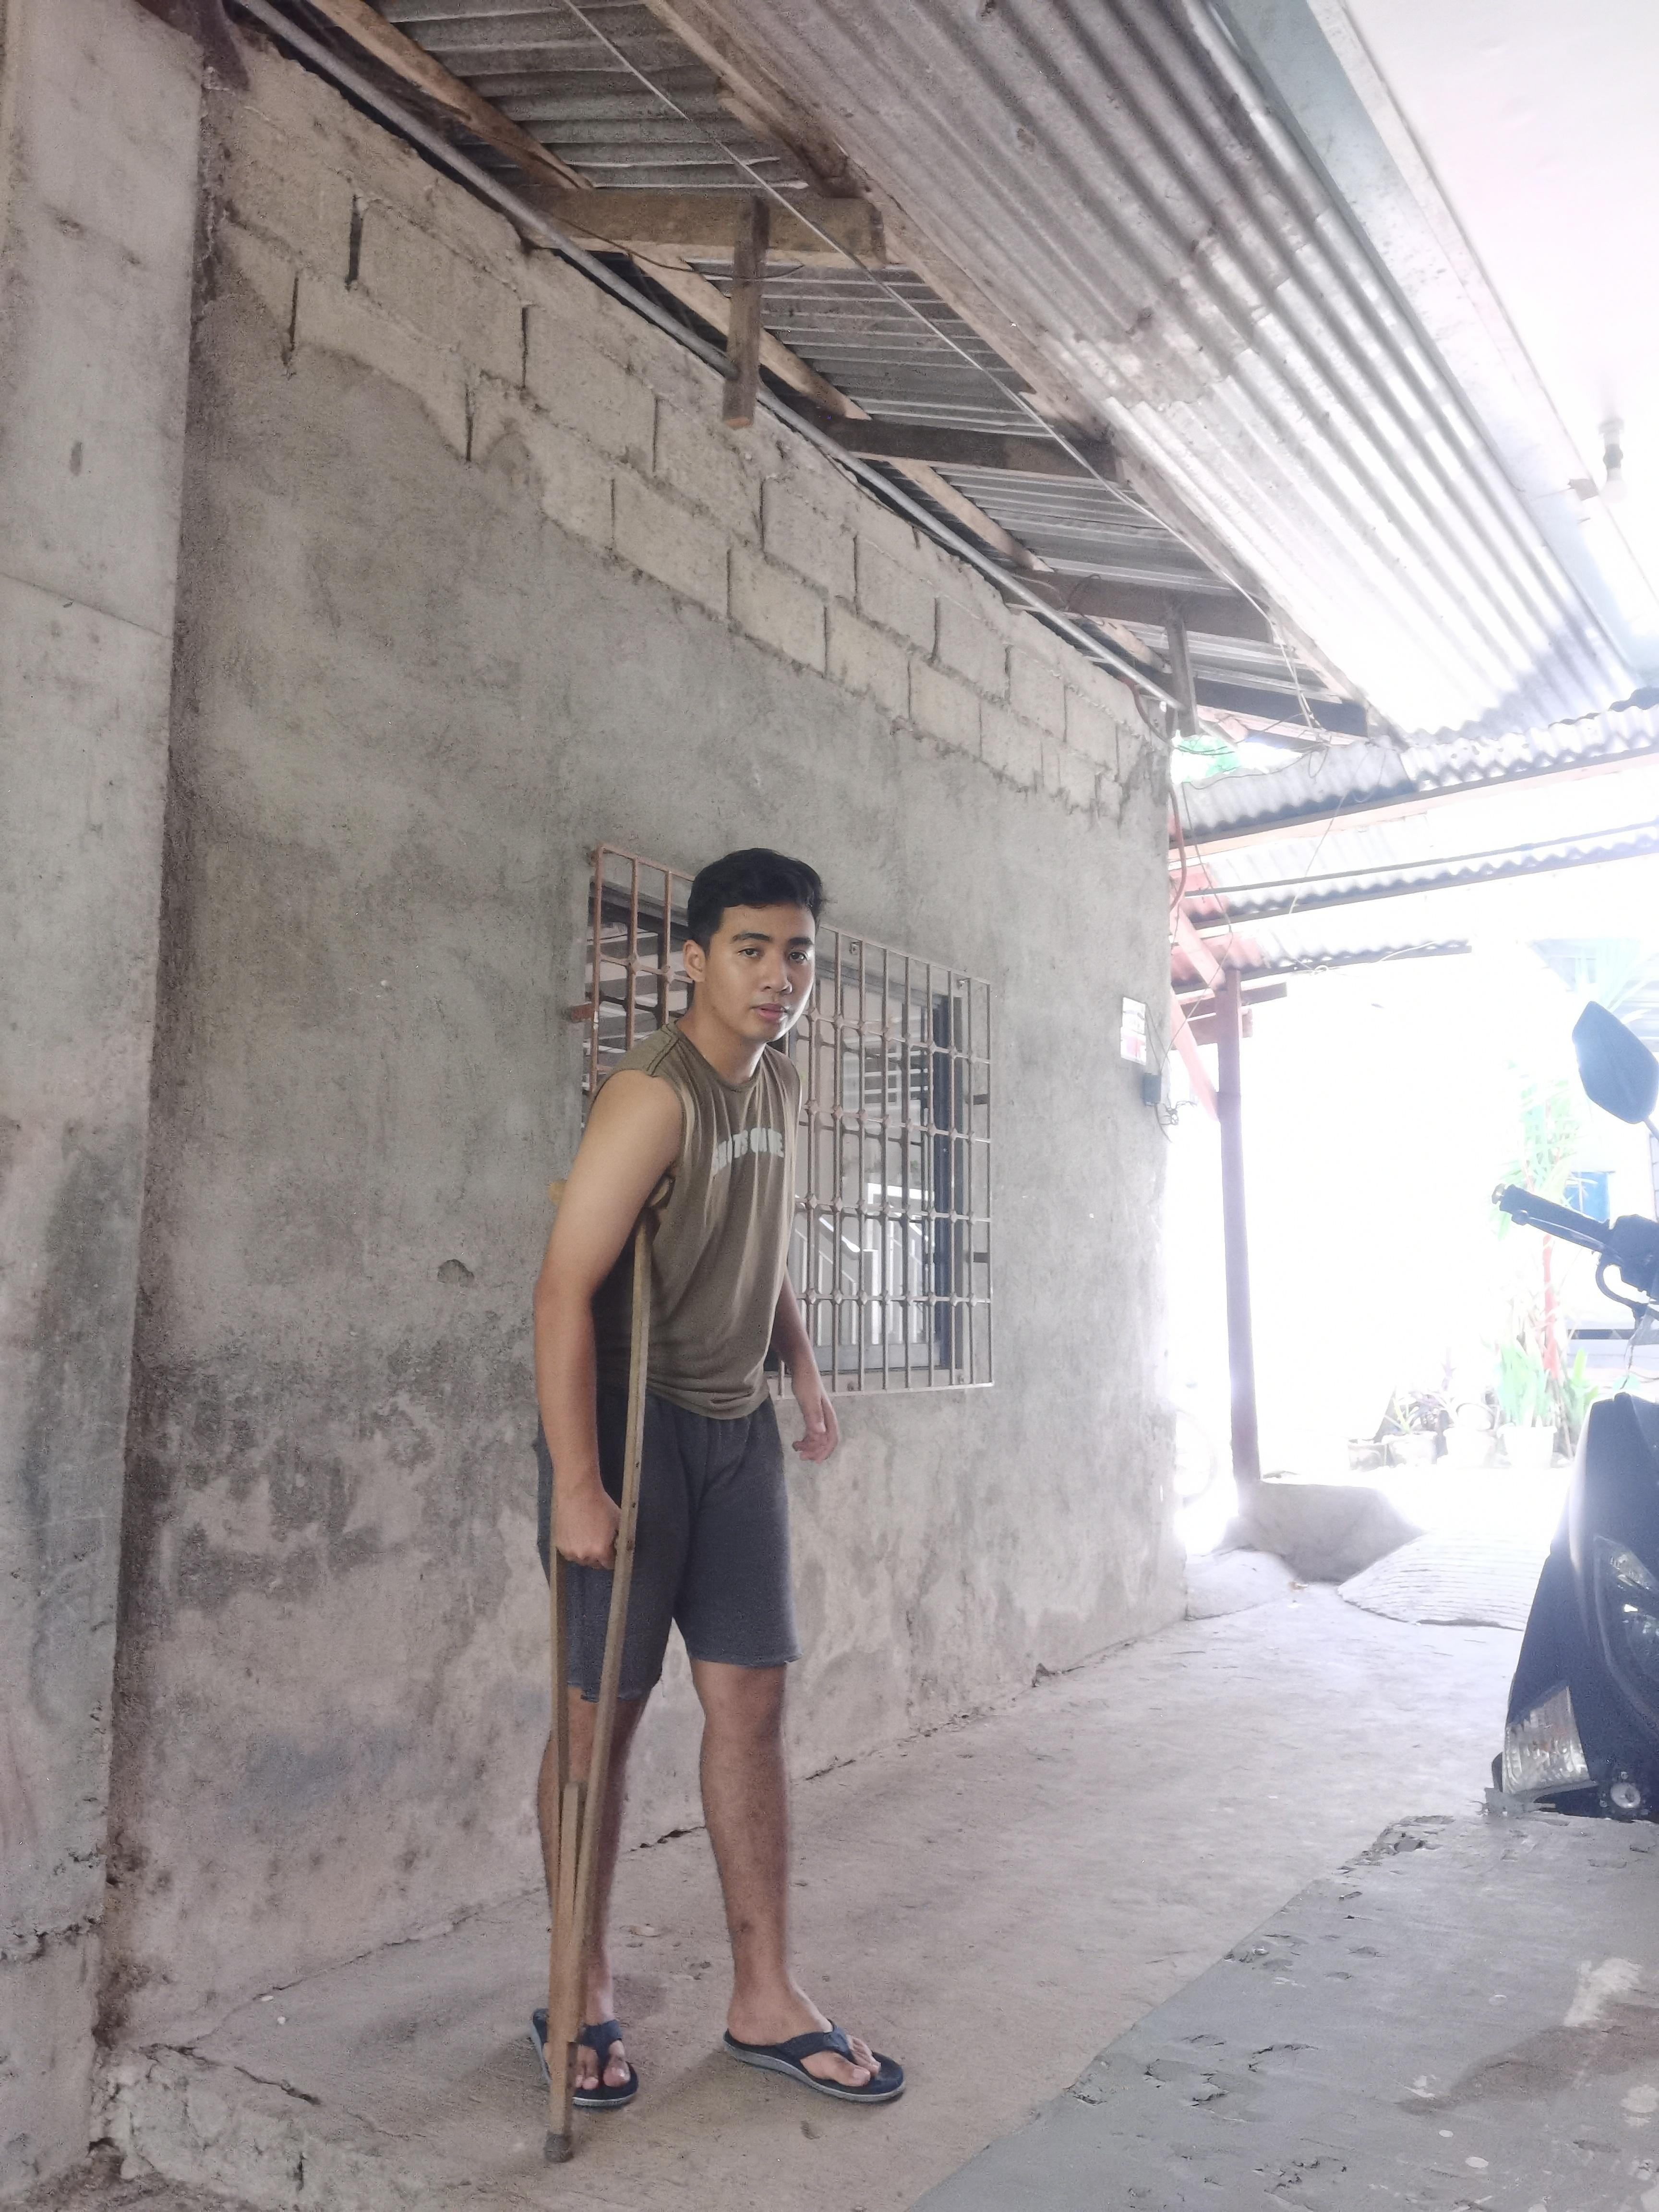crutches: (525, 831, 925, 2170)
